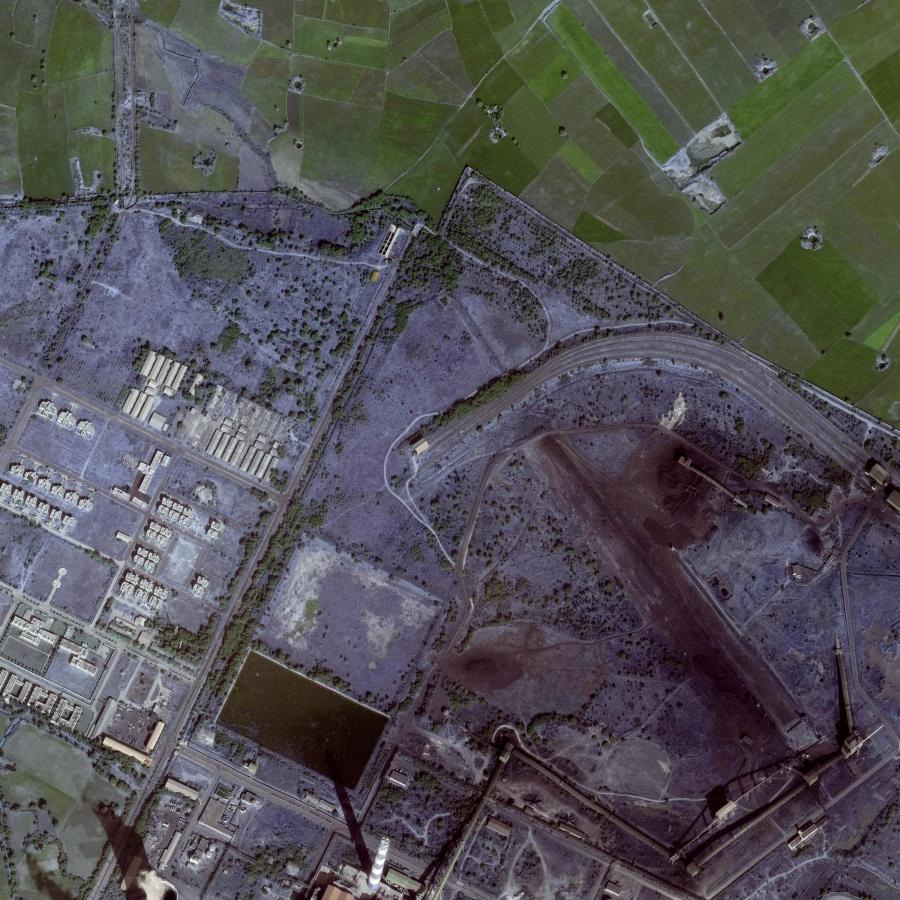PowerPlant: (500, 401, 826, 797)
